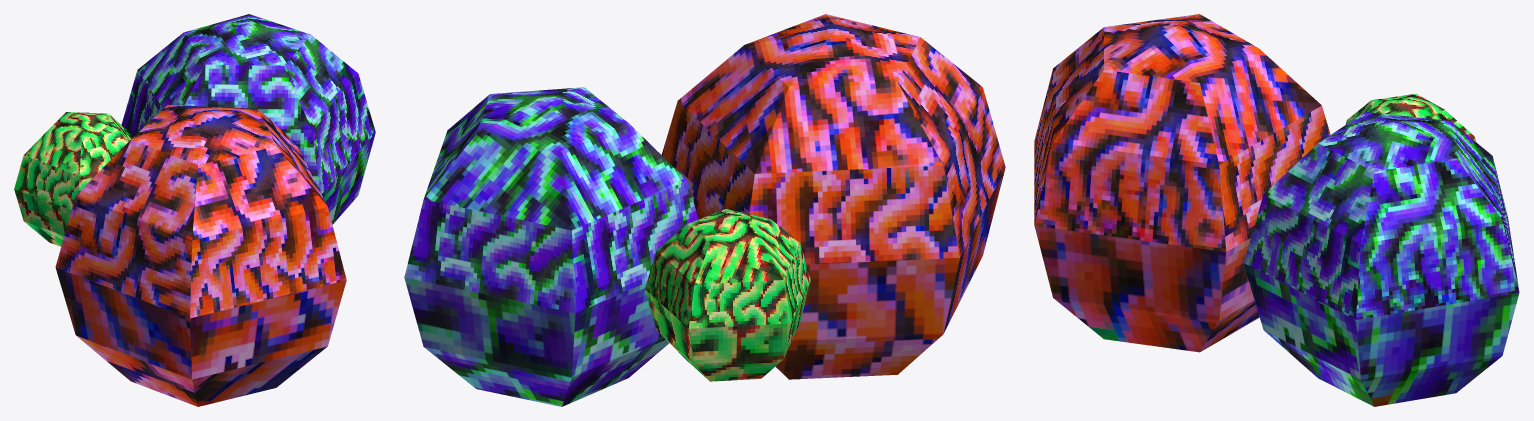
File: Brain Coral.fbx
The picture shows the model from 3 angles, left to right: view 1: azimuth 30°, elevation 25°; view 2: azimuth 150°, elevation 25°; view 3: azimuth 270°, elevation 25°; orthographic projection. The views are drawn at different scales.
Parts seen in each view (by area): view 1: Sphere.006; view 2: Sphere.006; view 3: Sphere.006.
Boxes of the visible parts, x1=… form: Sphere.006: x1=14, y1=14, x2=375, y2=406; Sphere.006: x1=404, y1=14, x2=1005, y2=406; Sphere.006: x1=1034, y1=14, x2=1519, y2=406.
Size of the model in its own units: 40.98 by 28.87 by 40.8.
3 materials, 3 textured.
